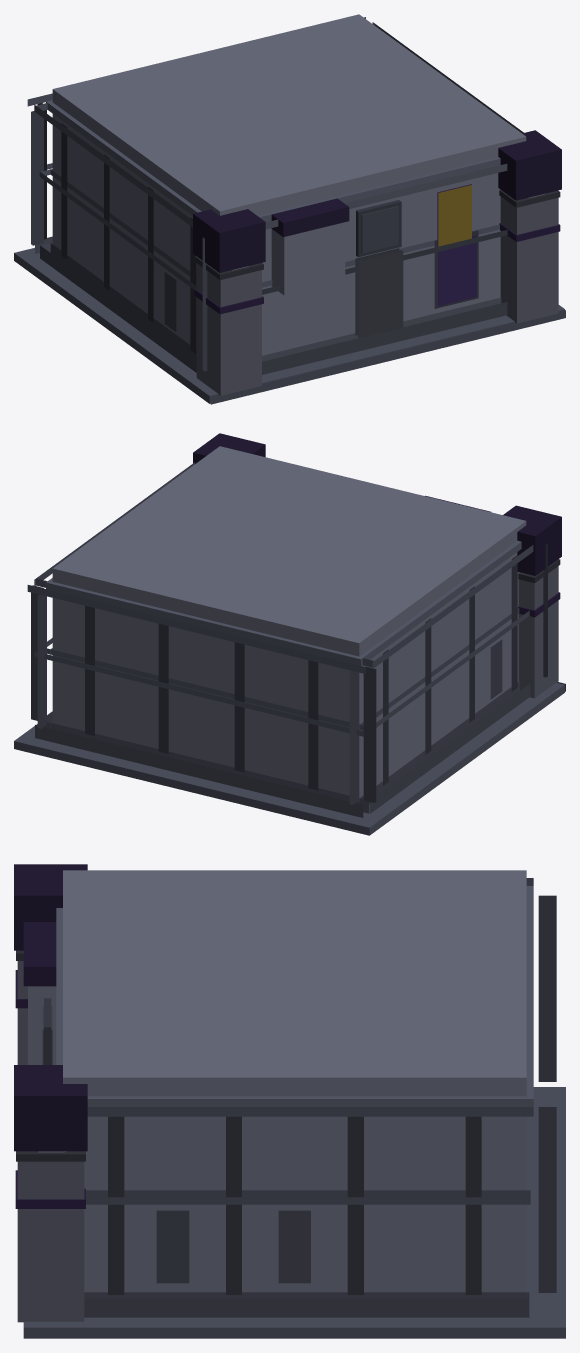
The model's file is RatWizardSil.fbx.
The picture shows the model from 3 angles, top to bottom: view 1: azimuth 30°, elevation 25°; view 2: azimuth 150°, elevation 25°; view 3: azimuth 270°, elevation 25°; orthographic projection. The views are drawn at different scales.
Parts seen in each view (by area): view 1: WZ_S_All; view 2: WZ_S_All; view 3: WZ_S_All.
Boxes of the visible parts, x1,y1,x2,y2 form: WZ_S_All: (14, 14, 565, 404); WZ_S_All: (14, 433, 565, 835); WZ_S_All: (14, 864, 565, 1338).
Bounding box in the file's own units: 42.04 × 19.9 × 40.77.
